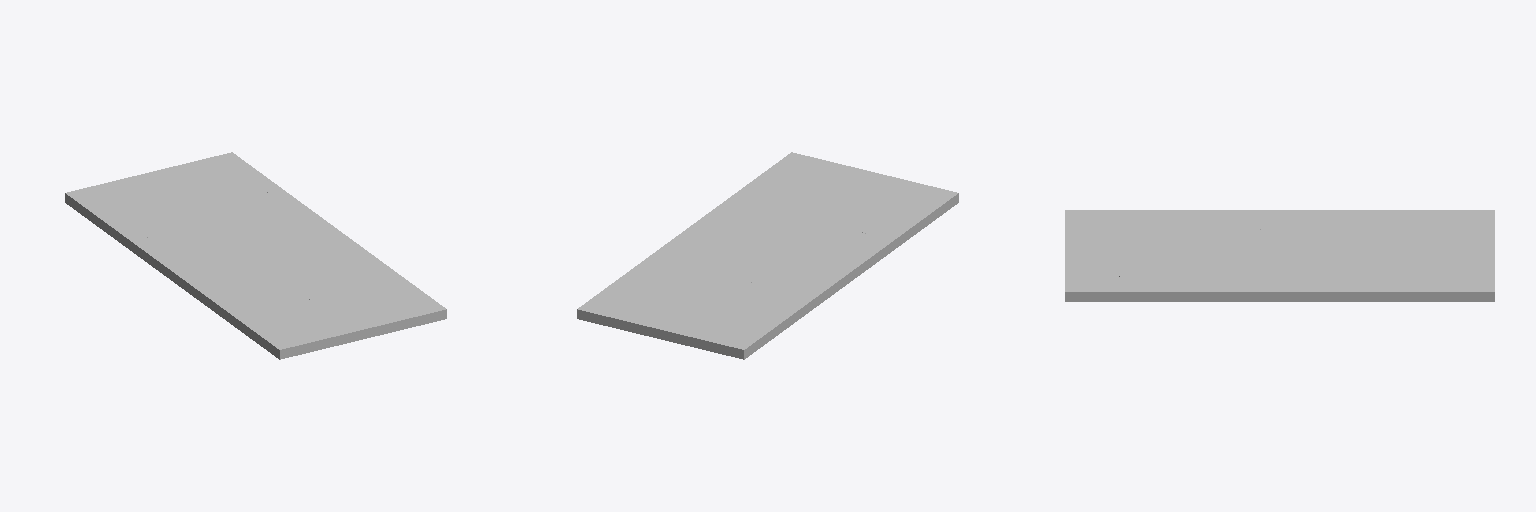
Rendered from Test3Whole.obj.
3 views of the same model, side by side, from view 1: azimuth 30°, elevation 25°; view 2: azimuth 150°, elevation 25°; view 3: azimuth 270°, elevation 25° (orthographic).
Parts seen in each view (by area): view 1: Grid_Grid.001; view 2: Grid_Grid.001; view 3: Grid_Grid.001.
Part boxes in pixels (bbox=[...]): Grid_Grid.001: bbox=[65, 152, 446, 359]; Grid_Grid.001: bbox=[577, 152, 958, 359]; Grid_Grid.001: bbox=[1065, 210, 1494, 301].
Bounding box in the file's own units: 1.8 × 0.1 × 4.